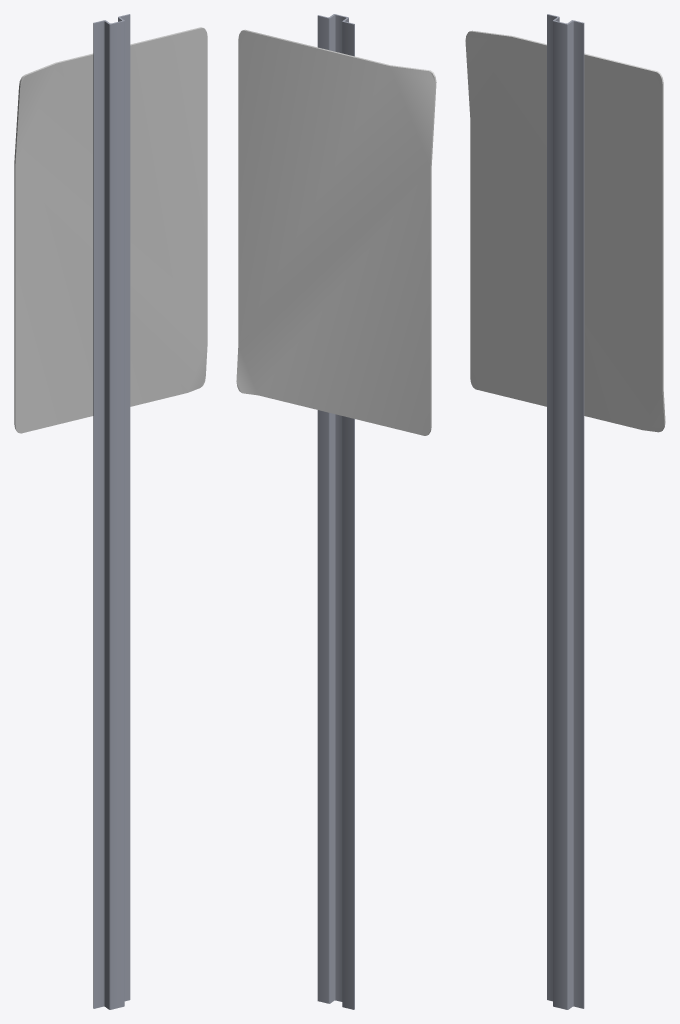
The model's file is sign_metal_v.fbx.
3 renders of one model, left to right at view 1: azimuth 30°, elevation 25°; view 2: azimuth 150°, elevation 25°; view 3: azimuth 330°, elevation 25°, orthographic.
Visible parts, largest first — view 1: sign-V; view 2: sign-V; view 3: sign-V.
Boxes of the visible parts, left/top/right/bottom form: sign-V: left=14, top=14, right=207, bottom=1009; sign-V: left=236, top=14, right=436, bottom=1009; sign-V: left=465, top=14, right=665, bottom=1009.
Bounding box in the file's own units: 61.33 × 300 × 5.
3 materials, 1 textured.
